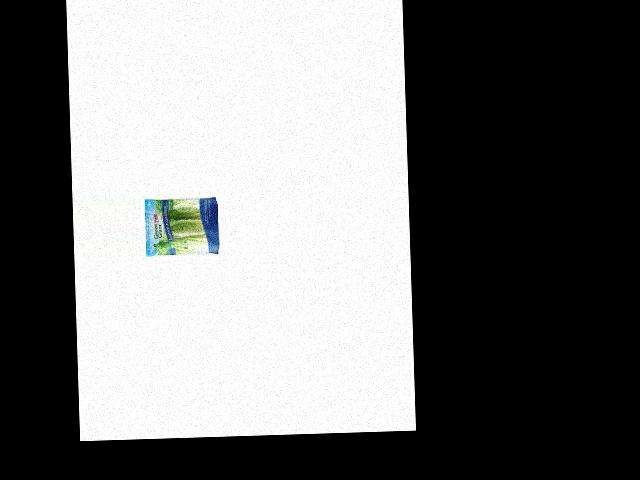lettuce: (147, 196, 222, 258)
